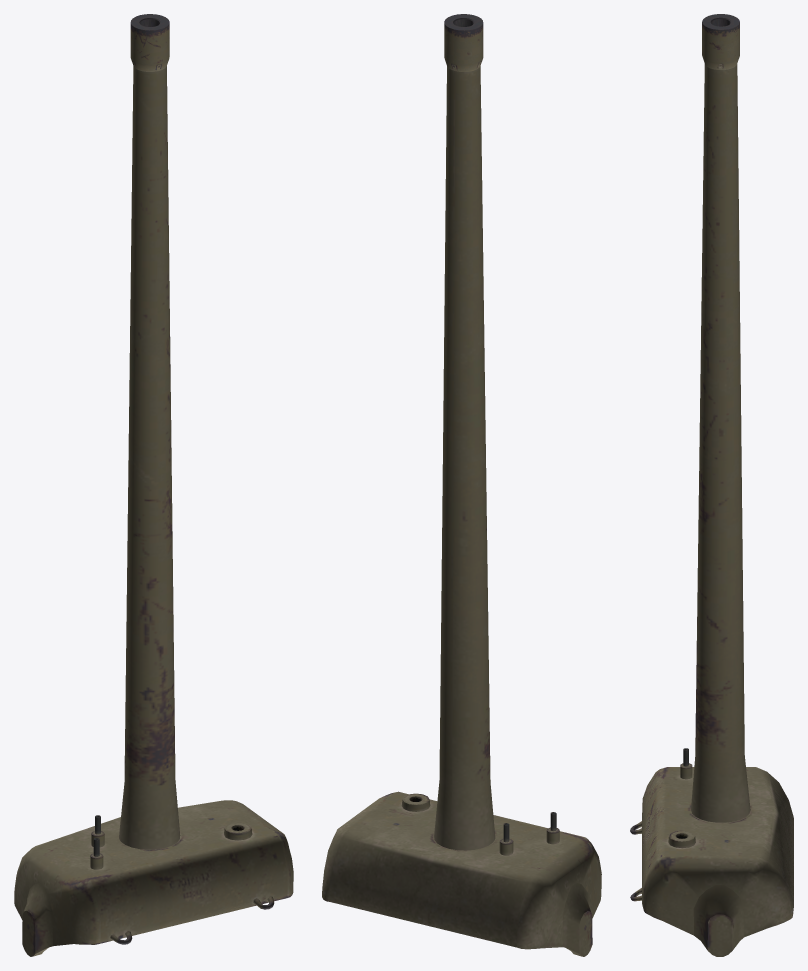
Rendered from Gun_06.glb.
3 views of the same model, side by side, from view 1: azimuth 30°, elevation 25°; view 2: azimuth 150°, elevation 25°; view 3: azimuth 270°, elevation 25° (orthographic). The views are drawn at different scales.
Parts seen in each view (by area): view 1: set_0_group_0; view 2: set_0_group_0; view 3: set_0_group_0.
Boxes of the visible parts, <box> form: set_0_group_0: <box>14,14,293,956</box>; set_0_group_0: <box>322,14,601,956</box>; set_0_group_0: <box>630,14,793,956</box>.
Bounding box in the file's own units: 1.55 × 5.36 × 0.9106.
1 material, 1 textured.
